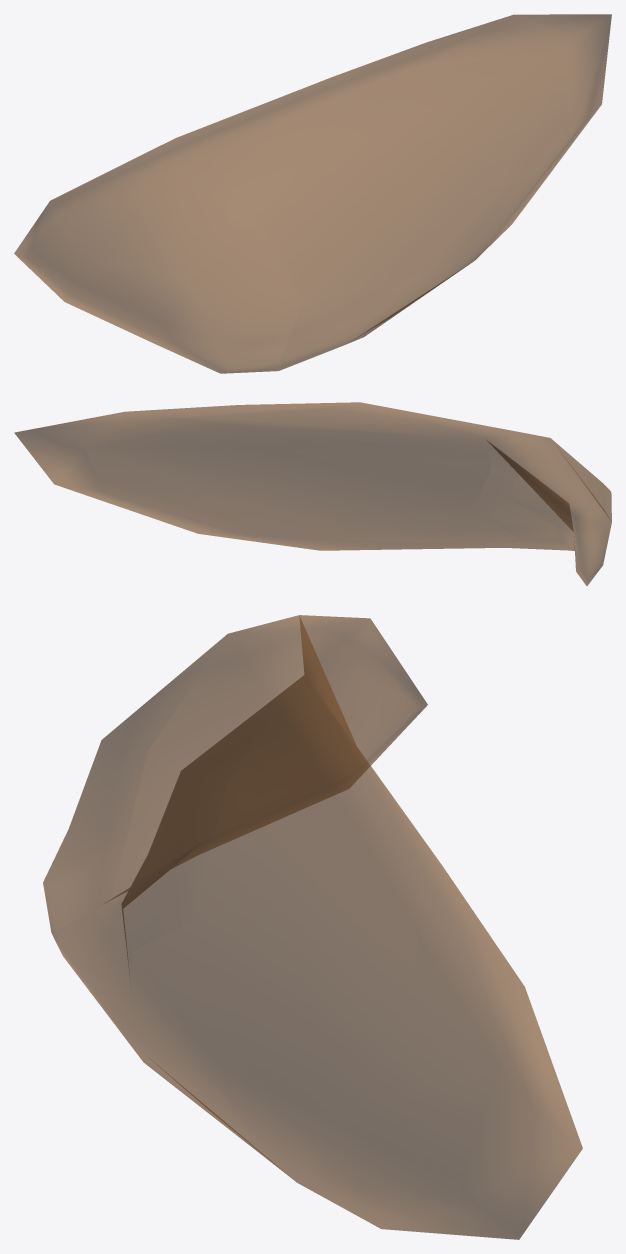
File: gamejam_glassshards_BottleNeckB.fbx
3 views of the same model, one above another, from view 1: azimuth 30°, elevation 25°; view 2: azimuth 150°, elevation 25°; view 3: azimuth 270°, elevation 25° (orthographic). The views are drawn at different scales.
Parts seen in each view (by area): view 1: BottleNeckB; view 2: BottleNeckB; view 3: BottleNeckB.
Part boxes in pixels (x1,y1,x2,y2): BottleNeckB: (14,14,611,373); BottleNeckB: (14,402,611,585); BottleNeckB: (43,615,582,1239).
Size of the model in its own units: 695 by 220 by 303.
